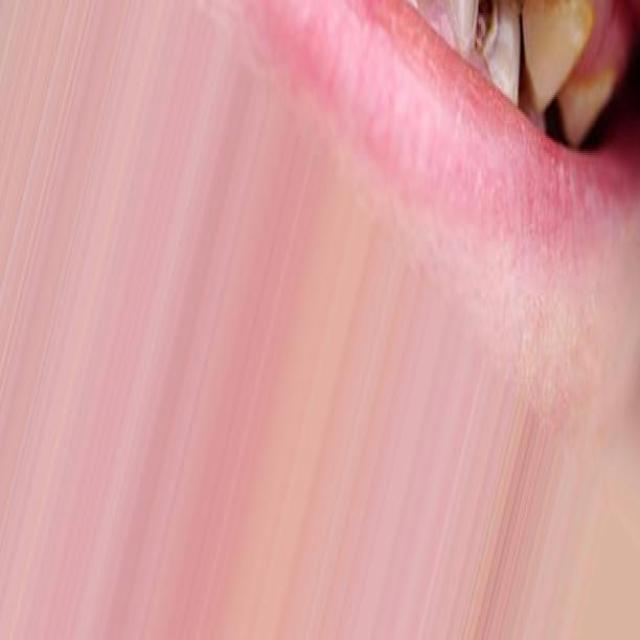caries: (457, 0, 504, 82)
